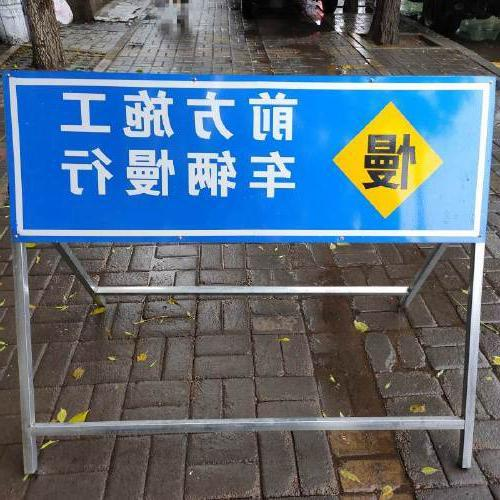sign: (7, 80, 494, 237)
